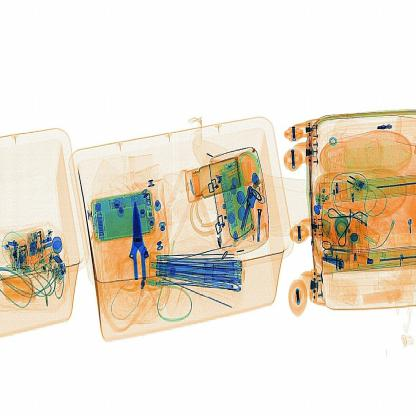gun: (107, 176, 170, 307)
